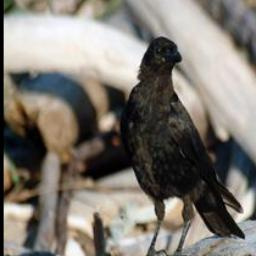Crow: (117, 34, 246, 256)
